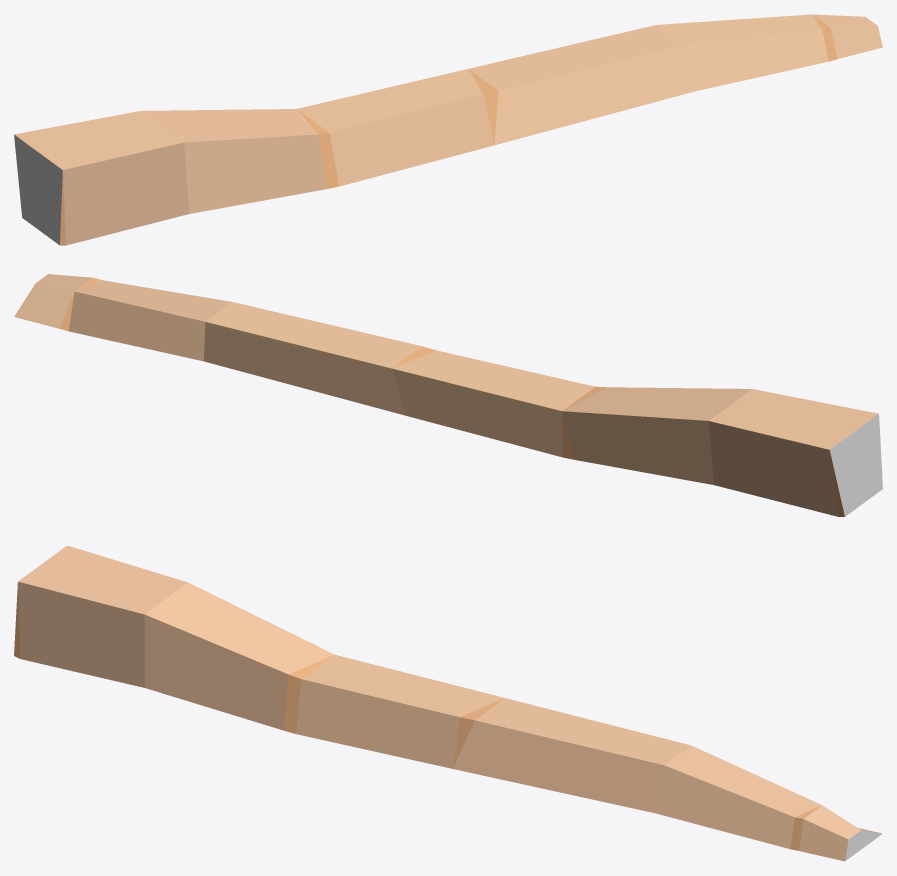
The model's file is parsnip03.gltf.
3 views of the same model, one above another, from view 1: azimuth 30°, elevation 25°; view 2: azimuth 150°, elevation 25°; view 3: azimuth 330°, elevation 25° (orthographic).
Visible parts, largest first — view 1: Cylinder.001; view 2: Cylinder.001; view 3: Cylinder.001.
Boxes of the visible parts, x1=… form: Cylinder.001: x1=14, y1=14, x2=882, y2=245; Cylinder.001: x1=14, y1=274, x2=882, y2=516; Cylinder.001: x1=14, y1=545, x2=882, y2=861.
Bounding box in the file's own units: 0.113 × 0.0109 × 0.0117.
1 material, 1 textured.
